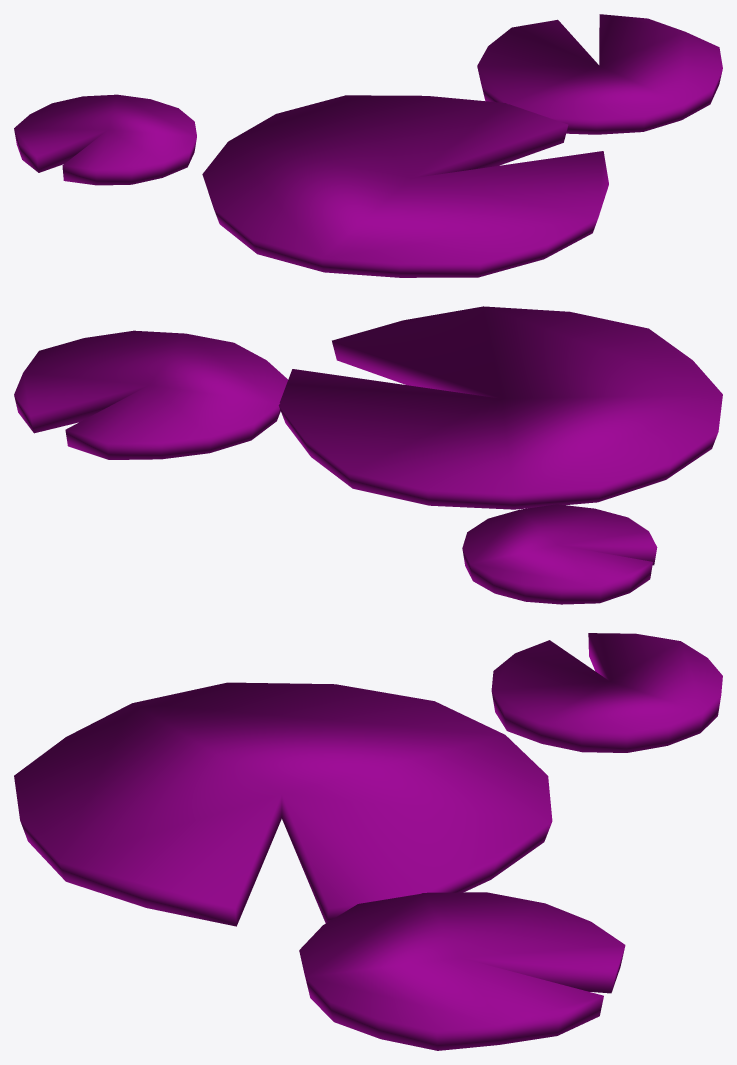
Rendered from mw_lily_pad.glb.
3 renders of one model, top to bottom at view 1: azimuth 30°, elevation 25°; view 2: azimuth 150°, elevation 25°; view 3: azimuth 270°, elevation 25°, orthographic. The views are drawn at different scales.
Visible parts, largest first — view 1: Pads; view 2: Pads; view 3: Pads.
Part boxes in pixels (left/top/right/bottom): Pads: left=14, top=14, right=722, bottom=277; Pads: left=14, top=306, right=722, bottom=604; Pads: left=14, top=633, right=722, bottom=1050.
Size of the model in its own units: 3.17 by 0.09 by 2.38.
